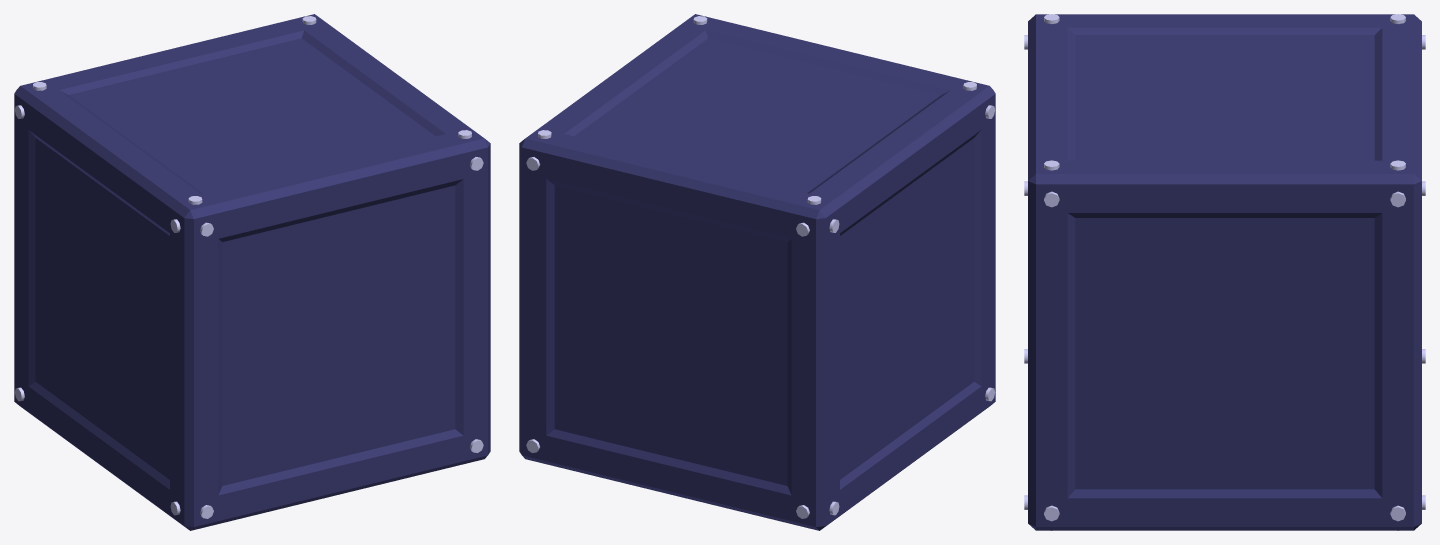
Rendered from insulatorBlock.fbx.
The picture shows the model from 3 angles, left to right: view 1: azimuth 30°, elevation 25°; view 2: azimuth 150°, elevation 25°; view 3: azimuth 270°, elevation 25°; orthographic projection. The views are drawn at different scales.
Visible parts, largest first — view 1: insulatorBlock; view 2: insulatorBlock; view 3: insulatorBlock.
Part boxes in pixels (x1,y1,x2,y2): insulatorBlock: [14, 14, 490, 530]; insulatorBlock: [519, 14, 995, 530]; insulatorBlock: [1024, 14, 1425, 530].
Bounding box in the file's own units: 2.55 × 2.55 × 2.55.
